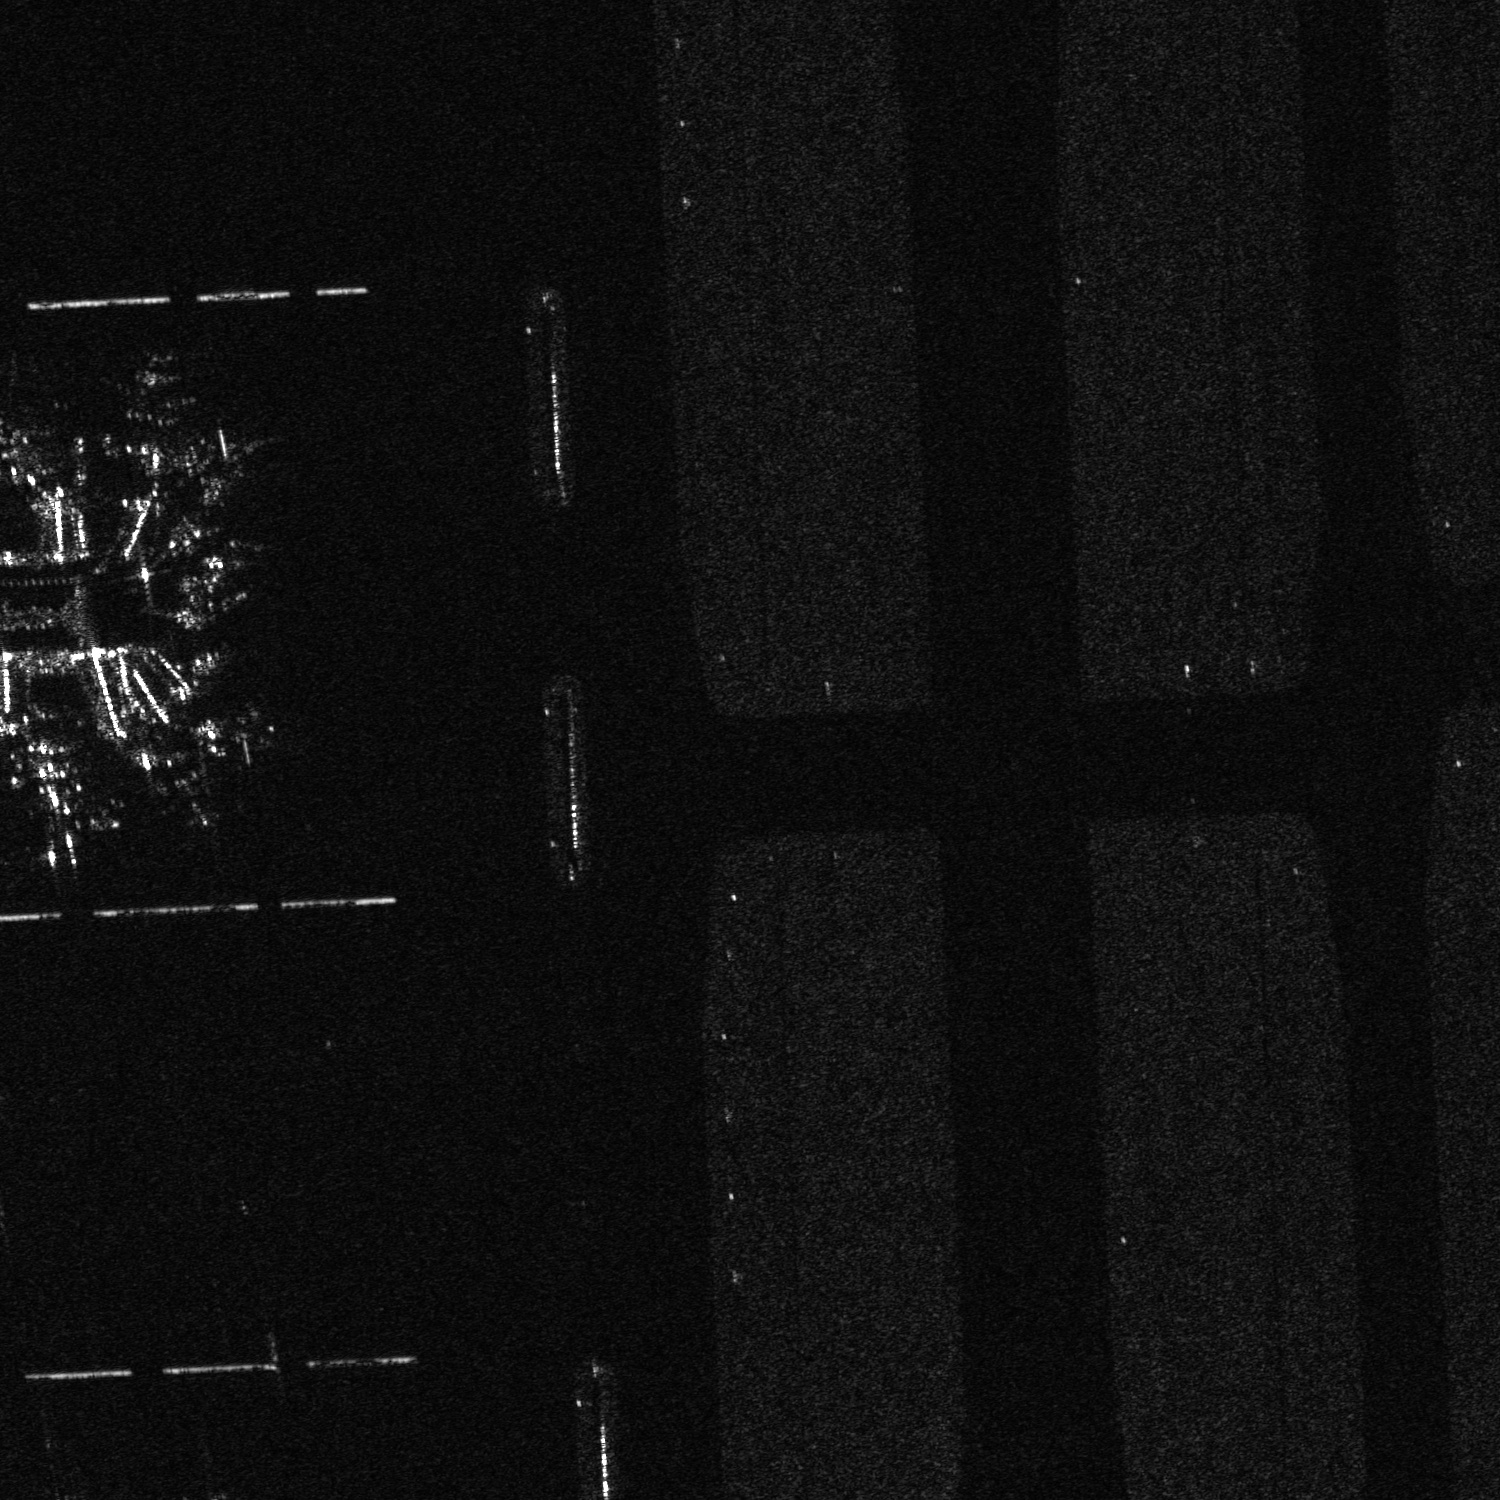A320/321: (14, 755, 111, 865), (117, 364, 195, 431)
Boeing737: (151, 749, 221, 834)
